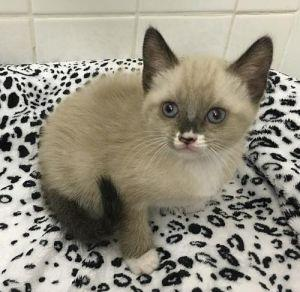siamese: (133, 13, 277, 172)
